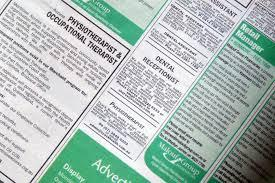Printing industry: (1, 3, 275, 183)
